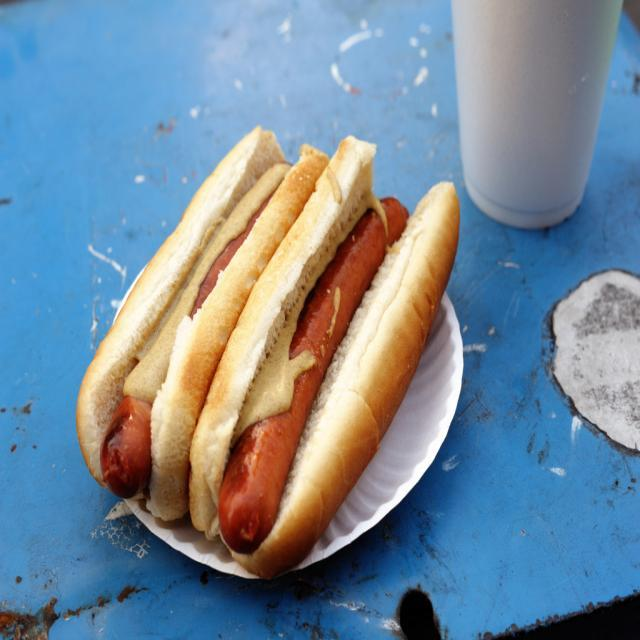Hot dog: (178, 126, 462, 584), (74, 126, 320, 520)
